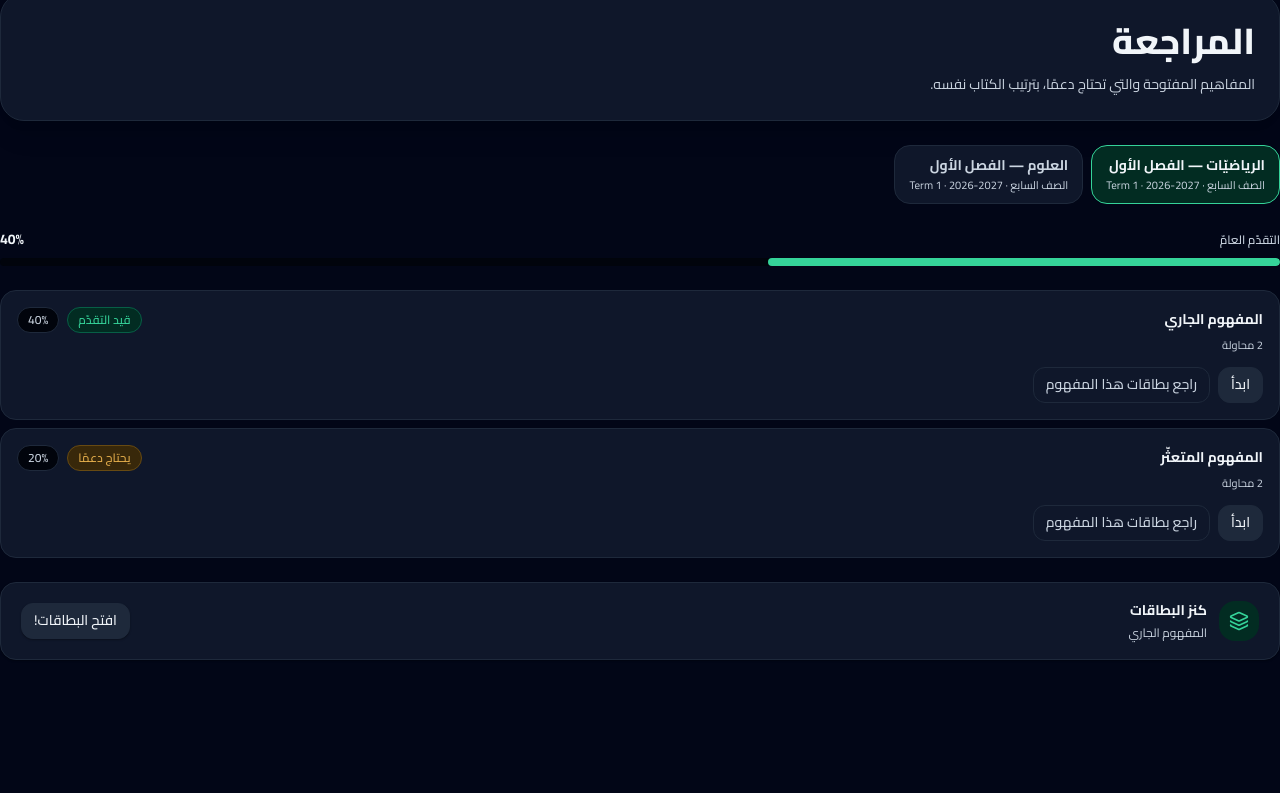
it: review › opens the deck for the current concept on demand
The image size is (1280, 793).
Click the button "افتح البطاقات!". click: click(75, 621)
box: [21,603,130,639]
(page scrolled)
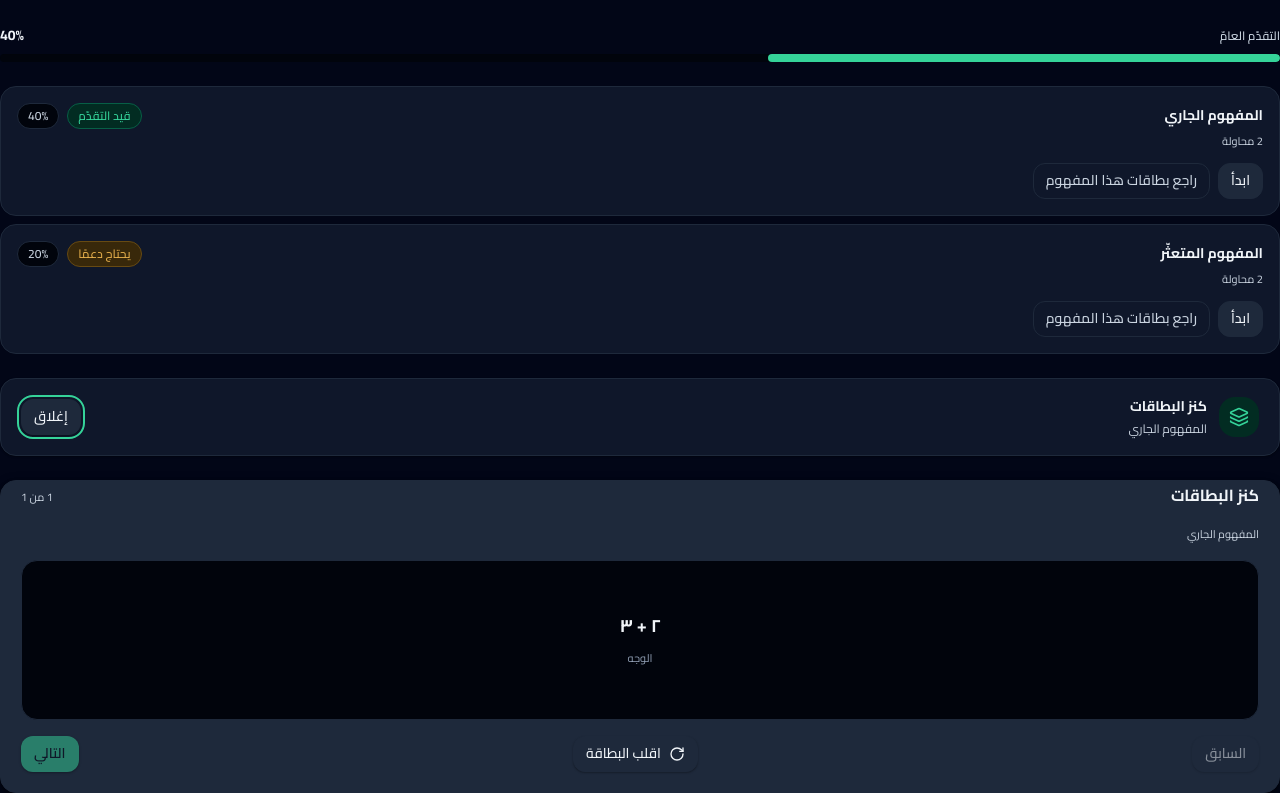
expect the text "٢ + ٣" is shown: met, box [619,612,661,642]
